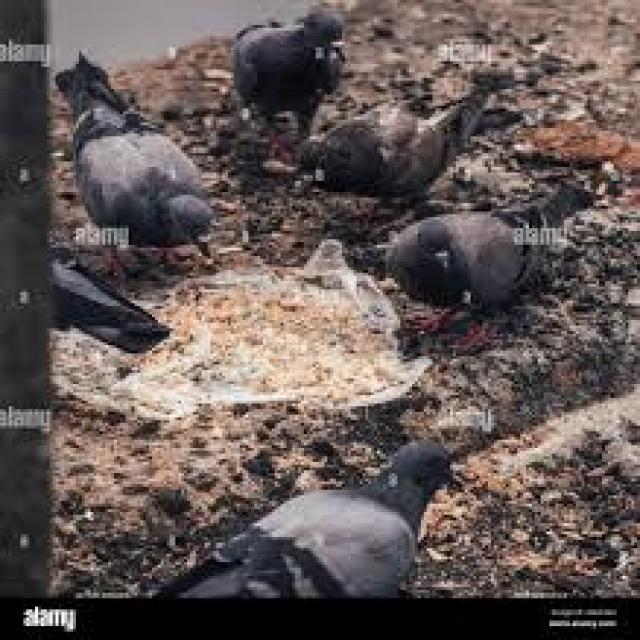bird: (29, 420, 471, 640), (26, 4, 234, 280), (306, 62, 524, 232), (380, 196, 602, 330), (190, 0, 366, 167)
